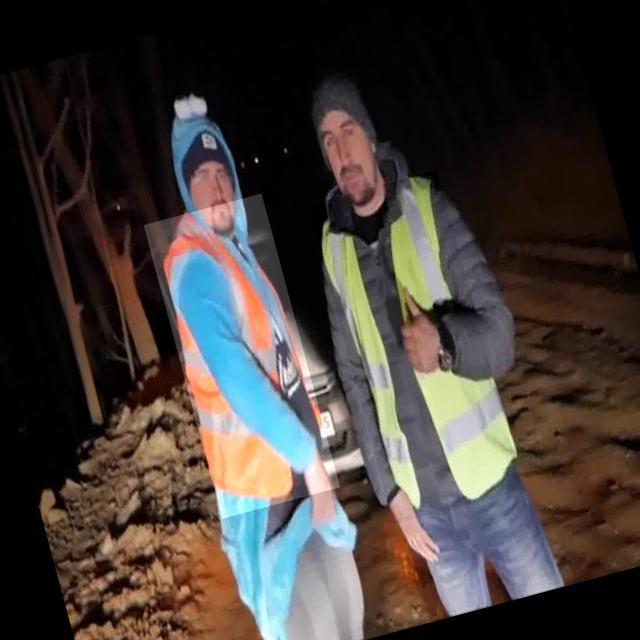Person: (291, 48, 573, 640), (115, 66, 287, 640)
Safety Vest: (308, 170, 524, 525), (143, 193, 340, 518)
bare-arms: (380, 282, 457, 378), (383, 474, 446, 571), (296, 455, 355, 541)
no-helmet: (165, 89, 239, 169), (298, 75, 383, 144)
